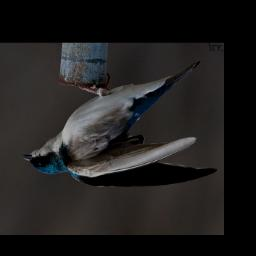Swallow: (20, 59, 219, 191)
